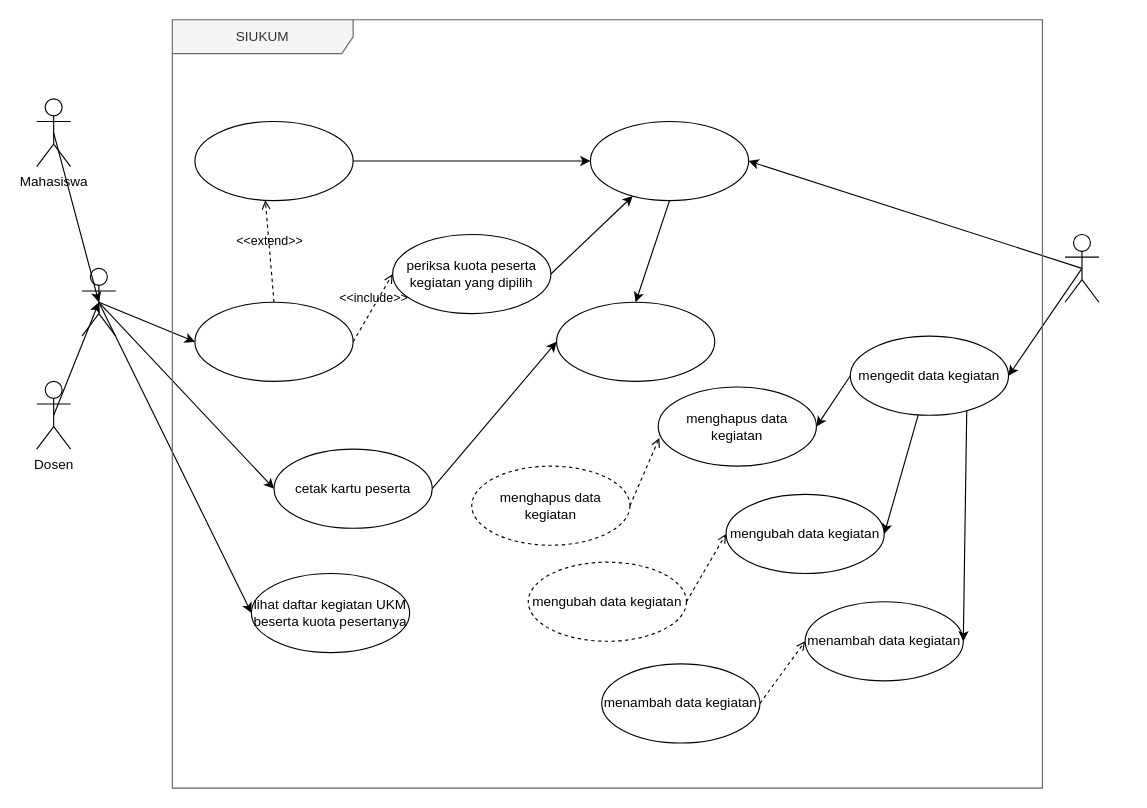
This 1147x808 diagram has some shape labels left out. Here are the shapes that lost their labels. From the top down, the centre of each, then its label:
At pixel 273 160: "membatalkan pendaftaran".
At pixel 669 160: "konfirmasi pendaftaran".
At pixel 1081 267: "Pengurus UKM".
At pixel 98 301: "Peserta".
At pixel 273 341: "mendaftar kegiatan".
At pixel 635 341: "catat pendaftaran".
